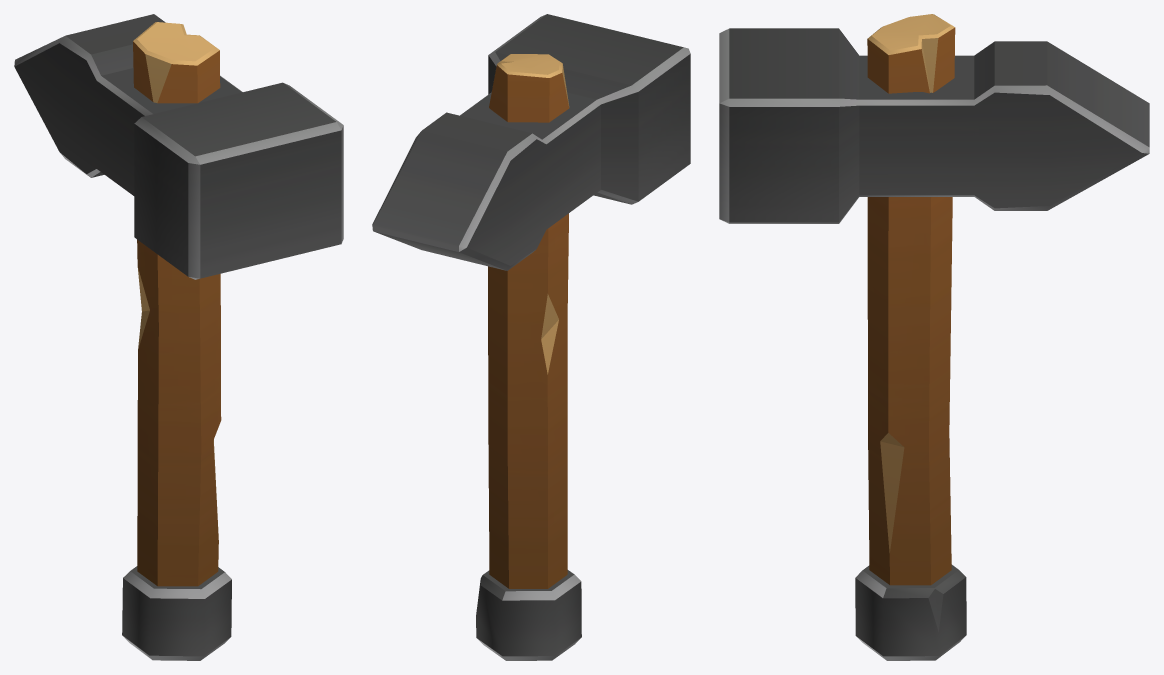
Rendered from Hammer_1_A.glb.
The picture shows the model from 3 angles, left to right: view 1: azimuth 30°, elevation 25°; view 2: azimuth 150°, elevation 25°; view 3: azimuth 270°, elevation 25°; orthographic projection. The views are drawn at different scales.
Parts seen in each view (by area): view 1: Hammer_1_A; view 2: Hammer_1_A; view 3: Hammer_1_A.
Boxes of the visible parts, x1=… form: Hammer_1_A: x1=14, y1=14, x2=343, y2=660; Hammer_1_A: x1=372, y1=14, x2=690, y2=660; Hammer_1_A: x1=719, y1=14, x2=1149, y2=660.
Size of the model in its own units: 0.1313 by 0.4901 by 0.3092.
2 materials, 2 textured.
